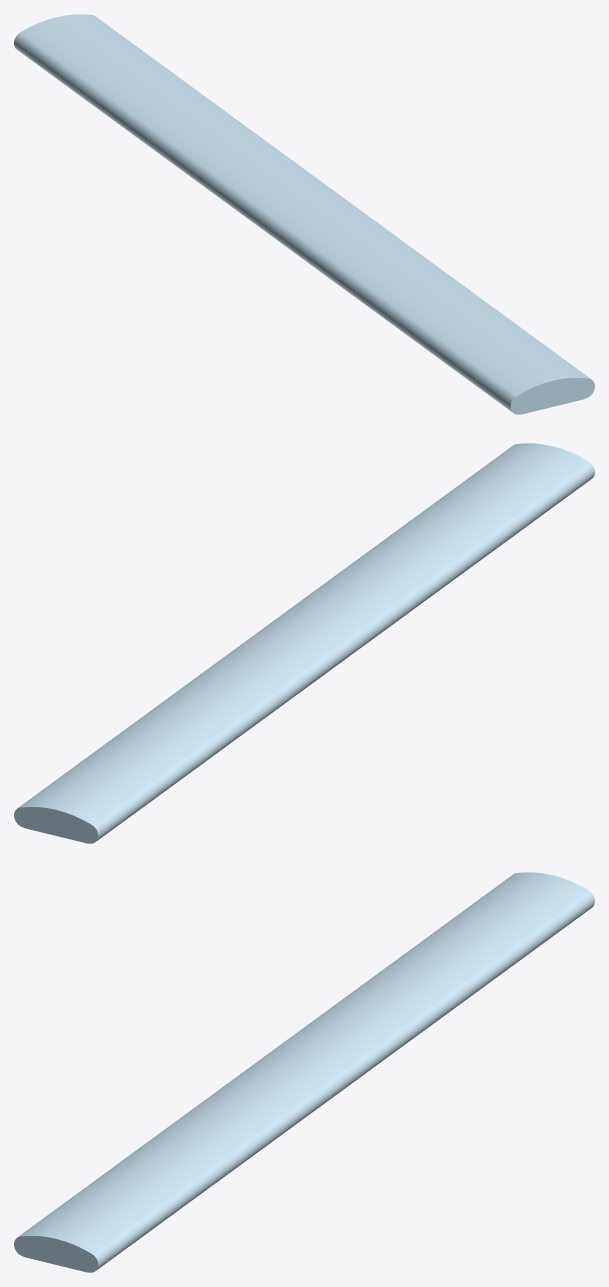
The model's file is Visage_Toprail.gltf.
3 views of the same model, one above another, from view 1: azimuth 30°, elevation 25°; view 2: azimuth 150°, elevation 25°; view 3: azimuth 330°, elevation 25° (orthographic).
Visible parts, largest first — view 1: Visage Toprail; view 2: Visage Toprail; view 3: Visage Toprail.
Boxes of the visible parts, box(x1,y1,x2,y2) form: Visage Toprail: box(14, 14, 594, 414); Visage Toprail: box(14, 443, 594, 843); Visage Toprail: box(14, 872, 594, 1272).
Size of the model in its own units: 0.098 by 0.029 by 1.
